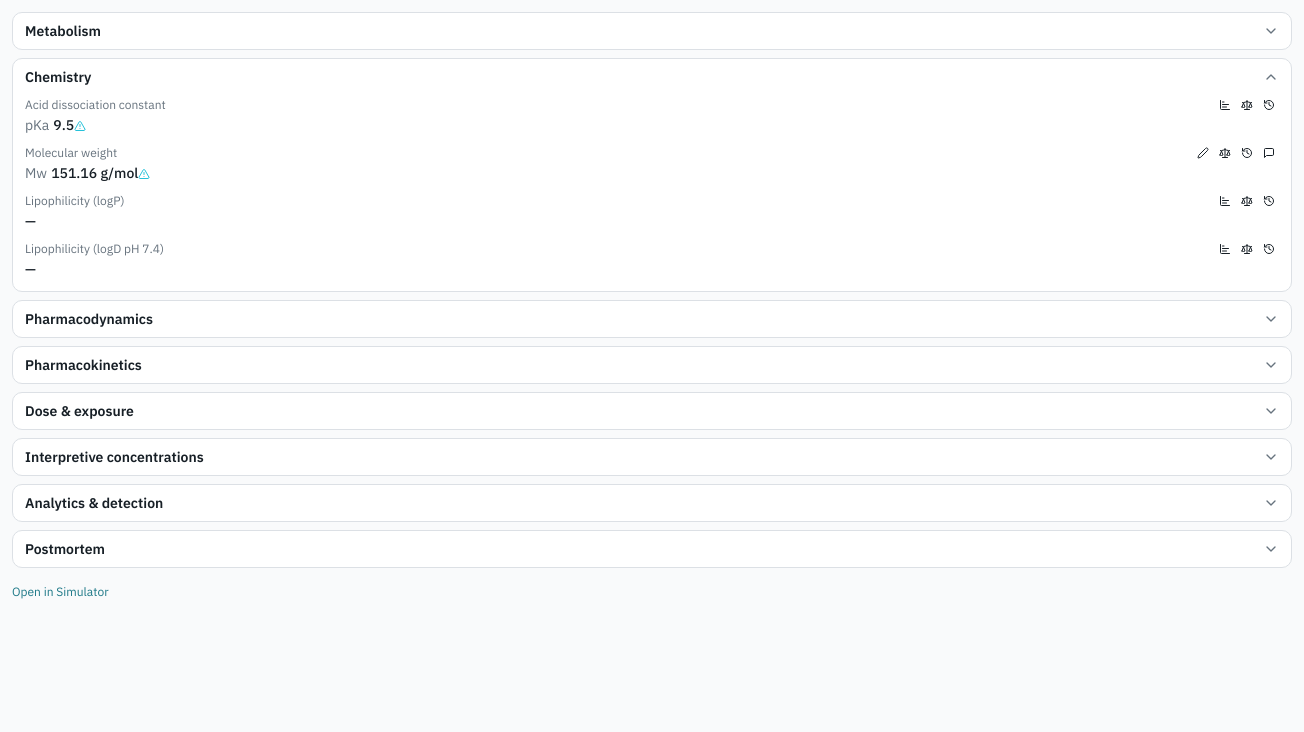
Test case: DrugMonographSidebar › offers an "add mechanisms" button to contributors when none exist
Click the button "Pharmacodynamics". click: click(89, 319)
box: [13,301,1291,337]
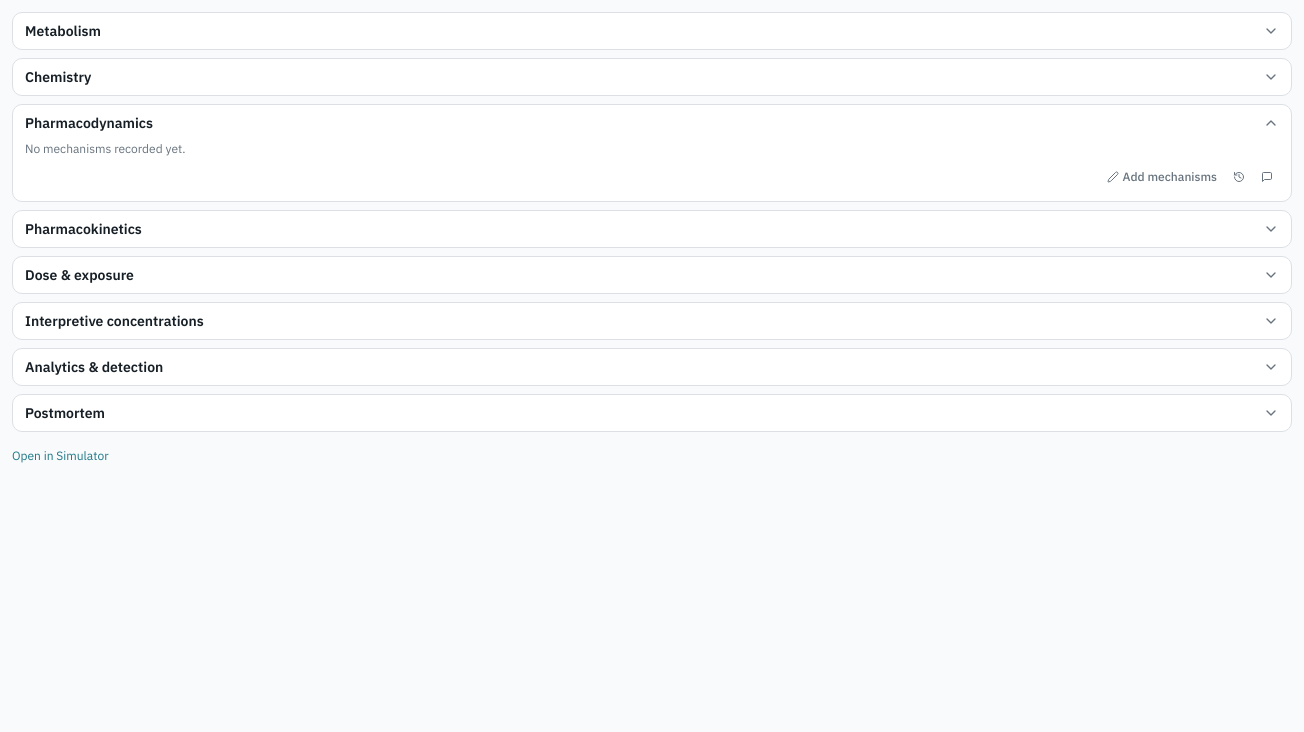
Expected: the text "No mechanisms recorded yet." is shown, [25,141,186,156]
Expected: the button "Add mechanisms" is shown, [1100,165,1223,189]
